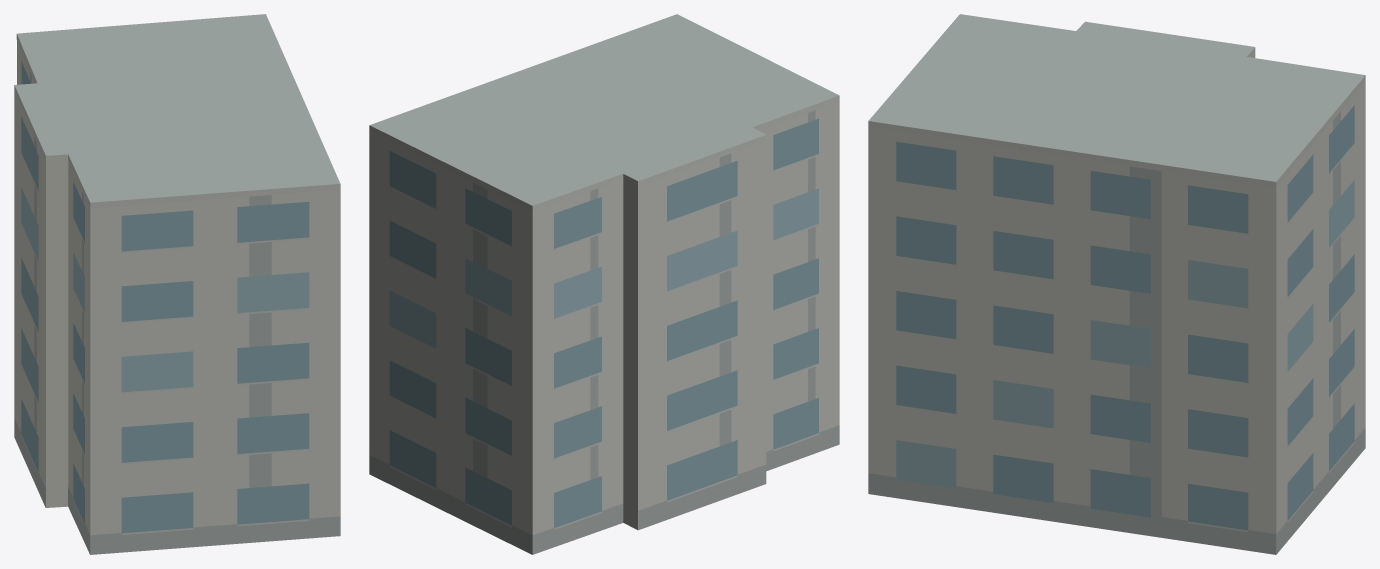
File: survey-upis-32893549.glb
3 views of the same model, side by side, from view 1: azimuth 30°, elevation 25°; view 2: azimuth 150°, elevation 25°; view 3: azimuth 270°, elevation 25° (orthographic). The views are drawn at different scales.
Parts seen in each view (by area): view 1: survey-upis-32893549.tmp; view 2: survey-upis-32893549.tmp; view 3: survey-upis-32893549.tmp.
Part boxes in pixels (<box>): survey-upis-32893549.tmp: <box>14,14,340,554</box>; survey-upis-32893549.tmp: <box>369,14,839,554</box>; survey-upis-32893549.tmp: <box>868,14,1365,554</box>.
Bounding box in the file's own units: 13.96 × 14.45 × 17.47.
